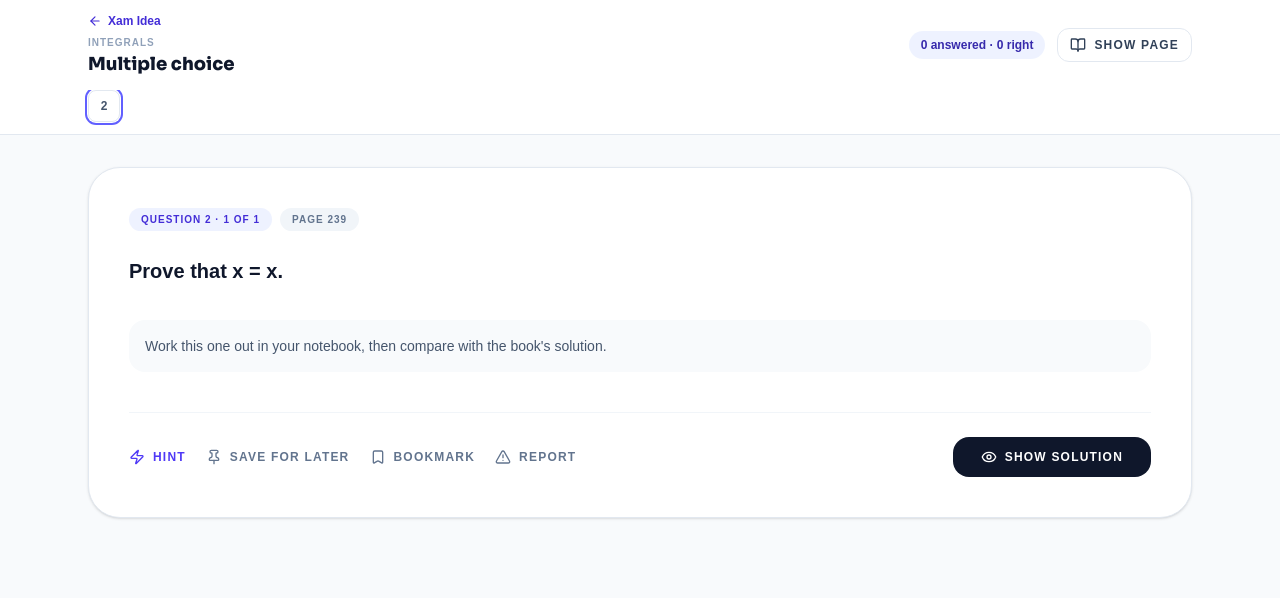
Test: SmartbookPlayer (student) › shows a written question's solution on request, for self-checking
The image size is (1280, 598).
Click the button with test id "show-solution".
click(1052, 456)  # box [953, 436, 1151, 476]
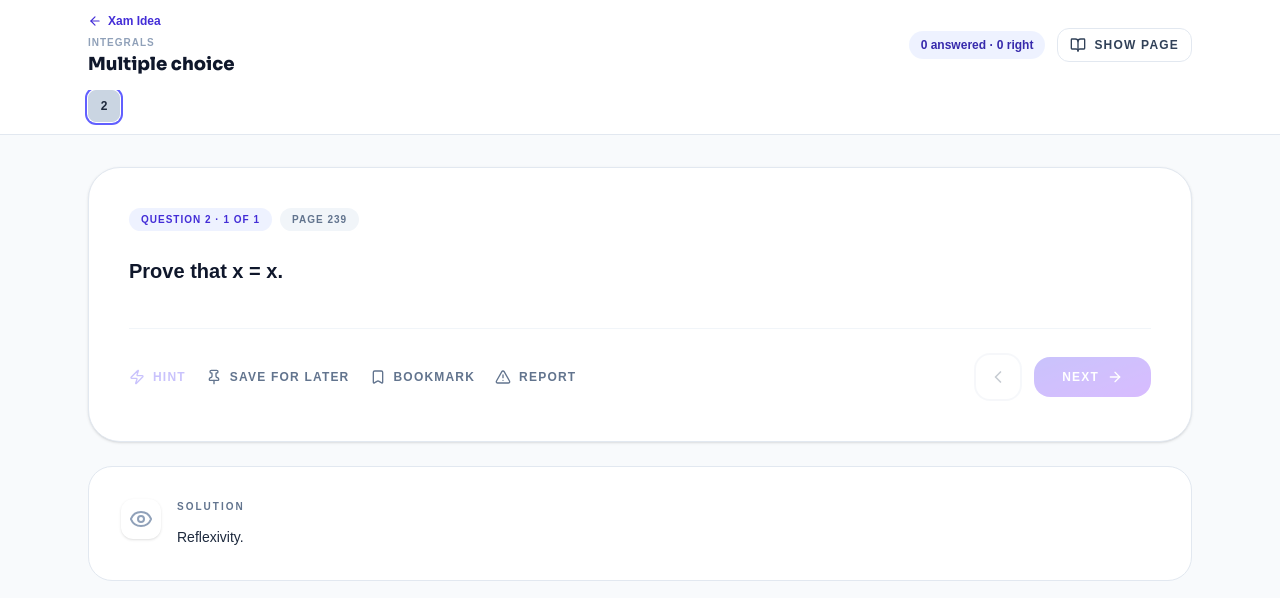
Expected: the element with test id "smartbook-solution-q2" shows "Reflexivity.", [177, 528, 244, 544]
